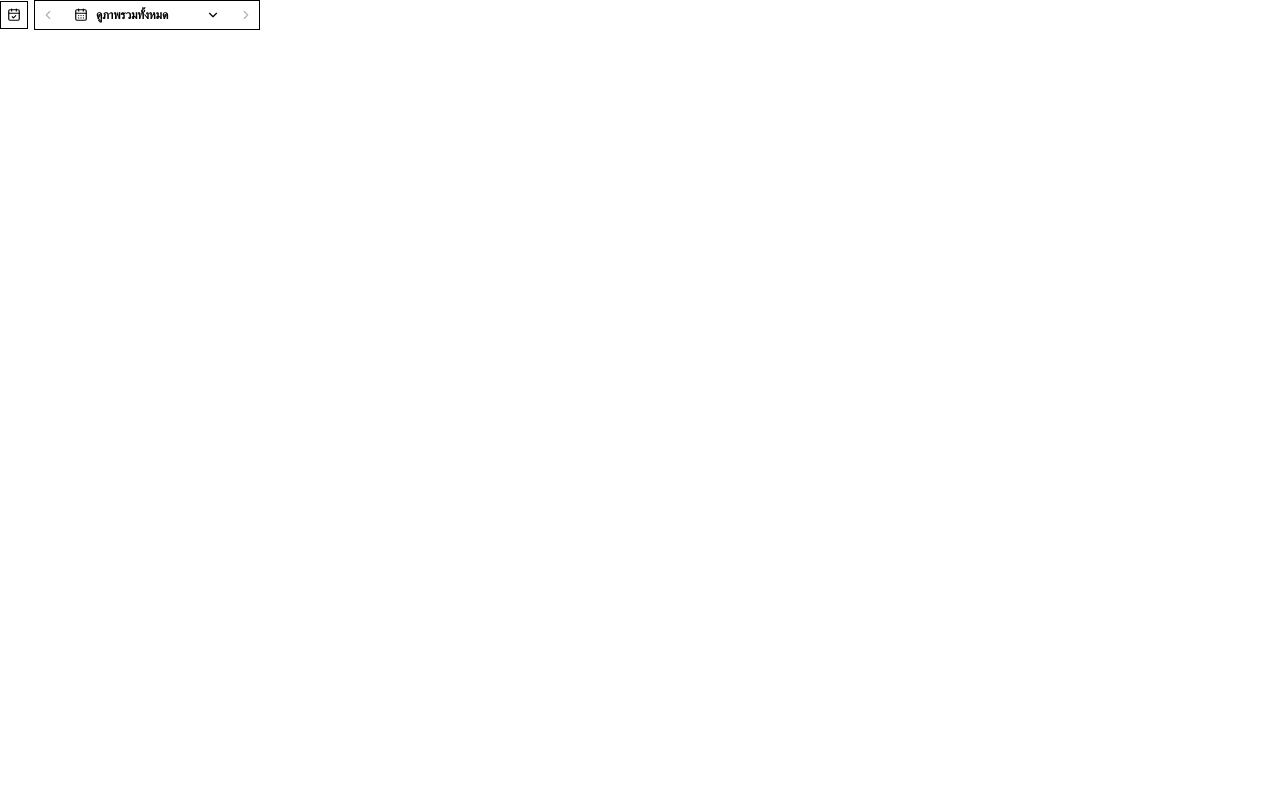
Test: PeriodPicker — เดี่ยว (single) mode › shows "ยังไม่มีข้อมูล" when there is nothing to pick
Click the button "ดูภาพรวมทั้งหมด" at [147, 15], box x1=62 y1=1 x2=232 y2=29
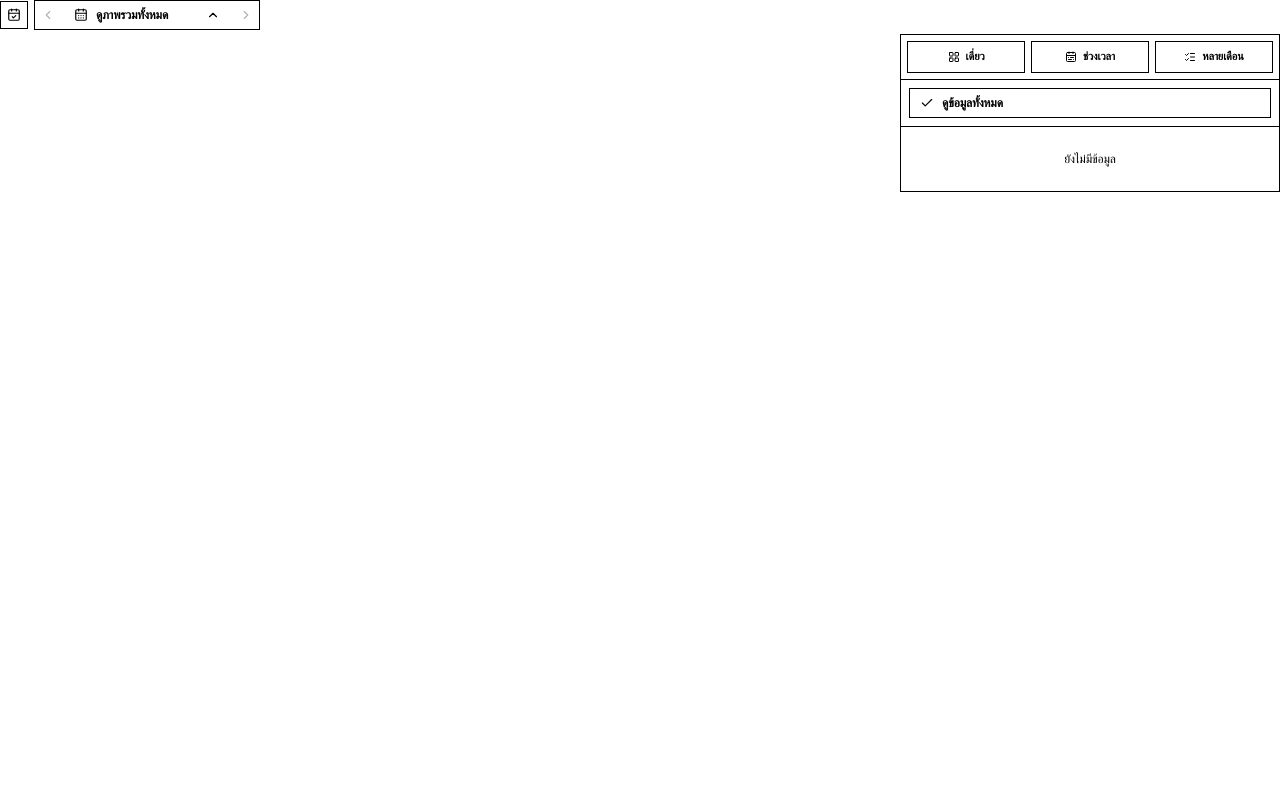
Now the dialog shows "ยังไม่มีข้อมูล", box x1=1064 y1=151 x2=1116 y2=166
